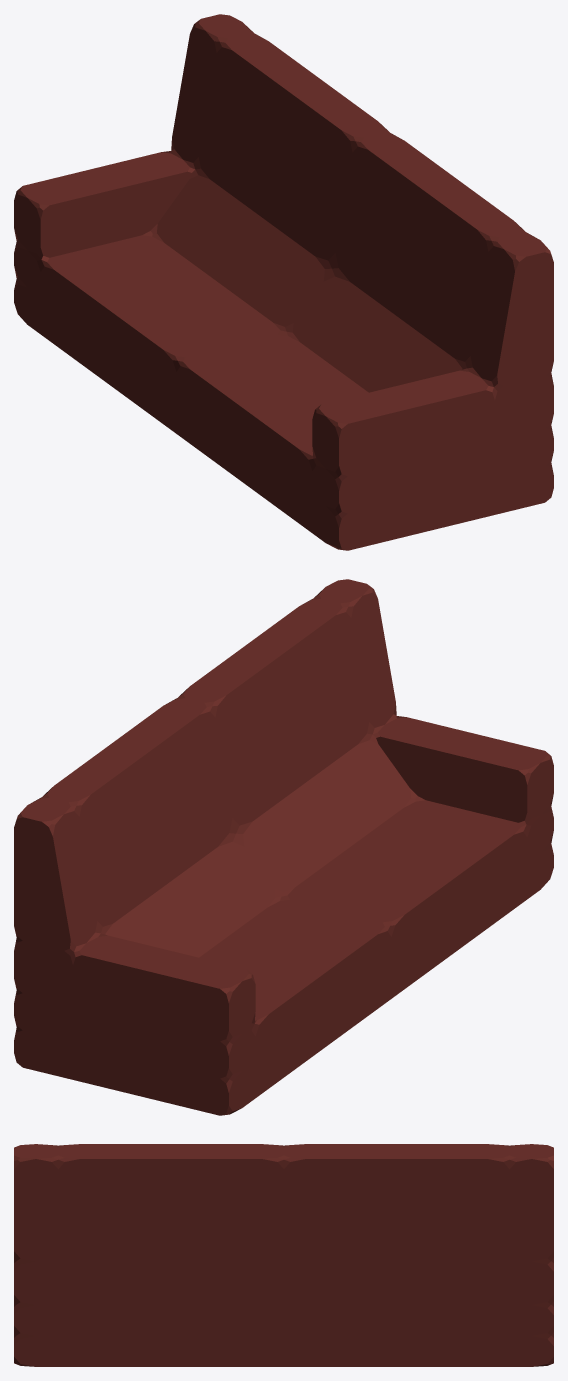
File: sofa.fbx
The picture shows the model from 3 angles, top to bottom: view 1: azimuth 30°, elevation 25°; view 2: azimuth 150°, elevation 25°; view 3: azimuth 270°, elevation 25°; orthographic projection. The views are drawn at different scales.
Visible parts, largest first — view 1: Plane; view 2: Plane; view 3: Plane.
Boxes of the visible parts, <box> form: Plane: <box>14,14,553,550</box>; Plane: <box>14,579,553,1115</box>; Plane: <box>14,1144,553,1366</box>.
Size of the model in its own units: 200 by 223 by 524.
